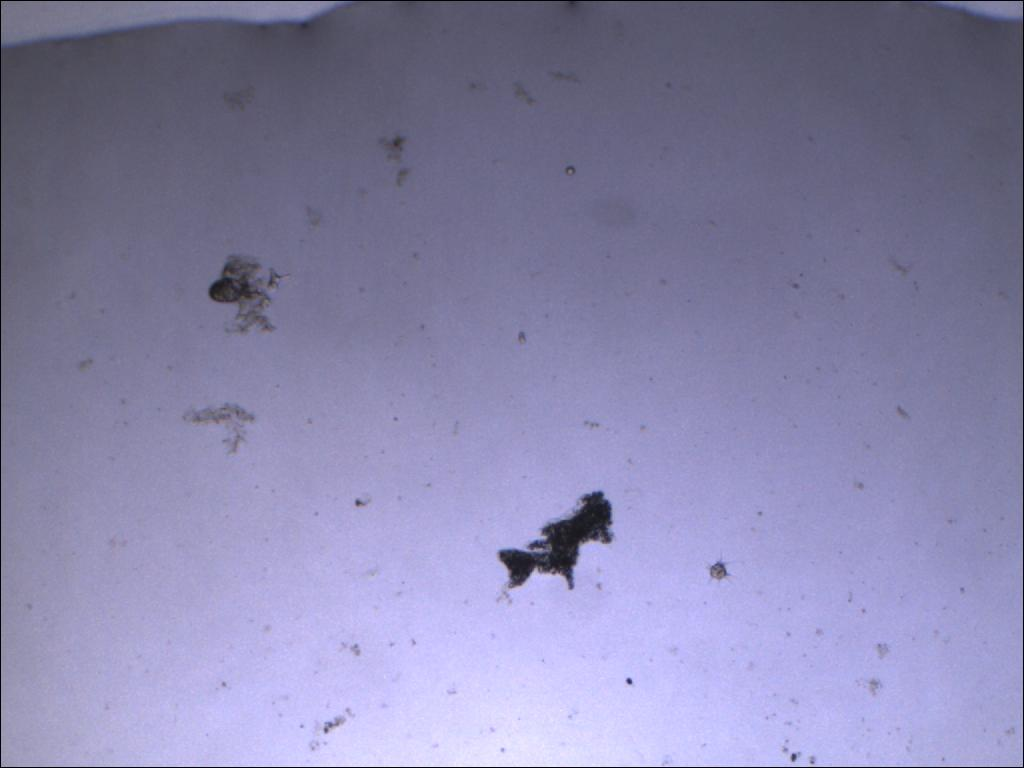amoeba: (486, 483, 622, 596)
